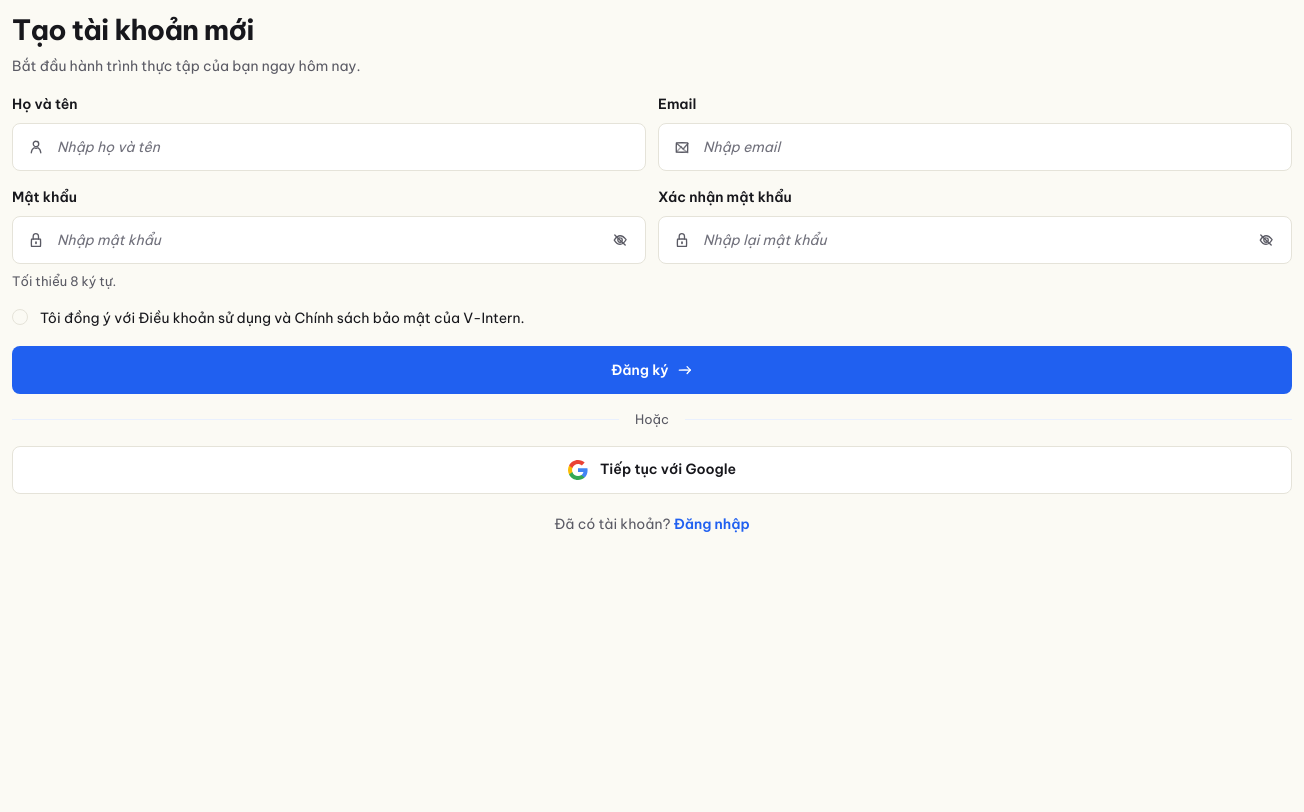
Test: RegisterForm › submit rỗng → đủ 5 lỗi bắt buộc bằng tiếng Việt, không gọi API
What coordinates should you click on to do the following:
click the button "Đăng ký"
I would click on:
 (652, 370)
Its box is x1=12 y1=346 x2=1292 y2=394.
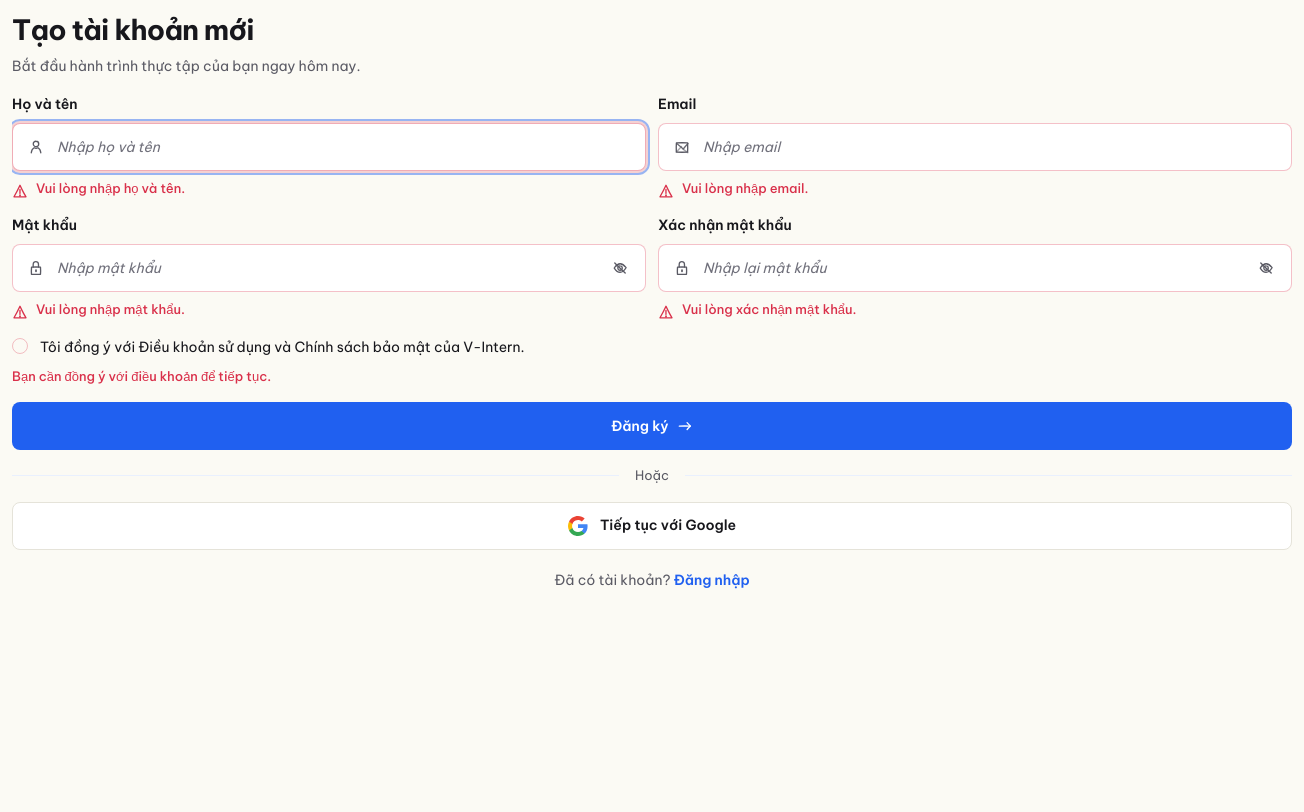
Result: the text "Vui lòng nhập họ và tên." is shown at x1=12 y1=180 x2=185 y2=199
Result: the text "Vui lòng nhập email." is shown at x1=658 y1=180 x2=808 y2=199
Result: the text "Vui lòng nhập mật khẩu." is shown at x1=12 y1=301 x2=185 y2=320
